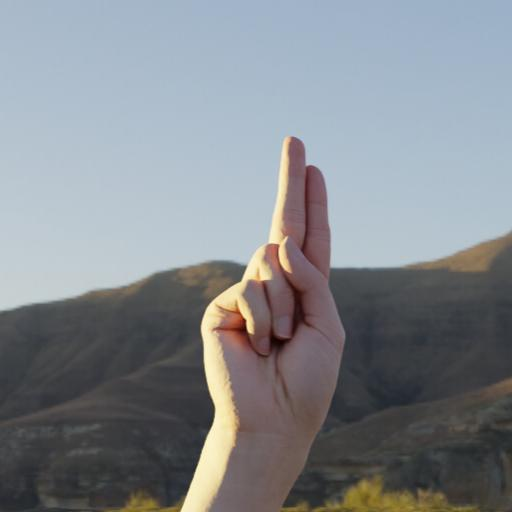U: (194, 124, 356, 440)
